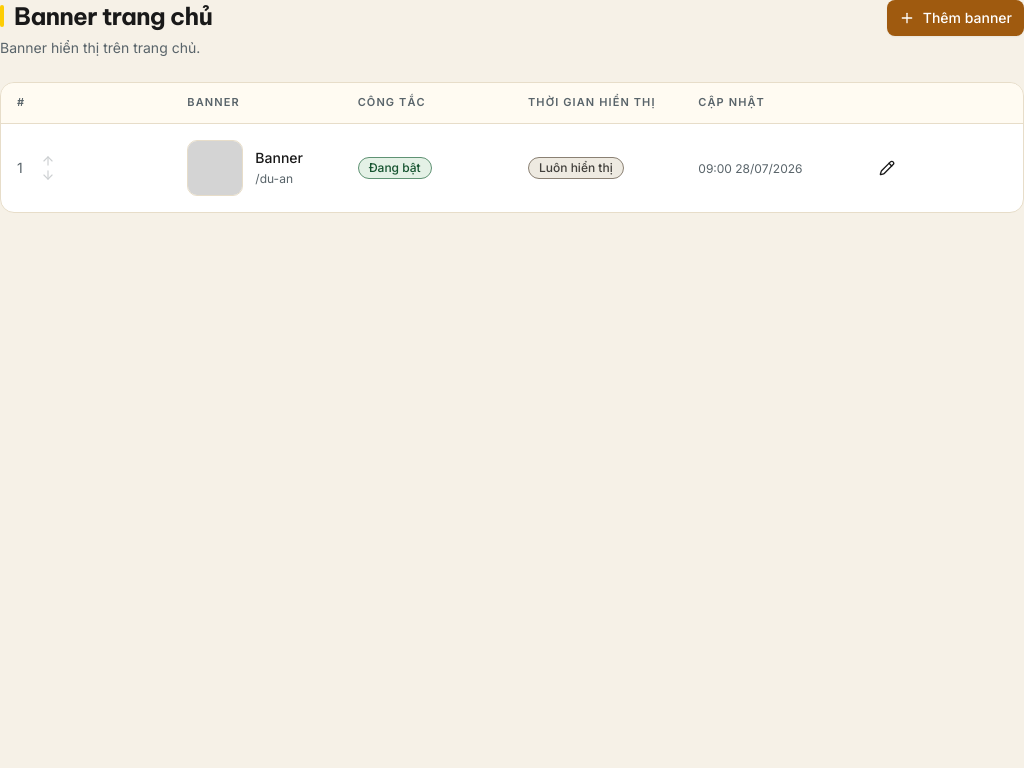
Form banner — phần “Thời gian hiển thị” › kiểm tại chỗ trước khi gọi API › chọn ngày mà quên giờ: báo lỗi, không tự đoán 00:00
Click the button named "Sửa banner" at (887, 168), box x1=869 y1=152 x2=905 y2=184
(page scrolled)
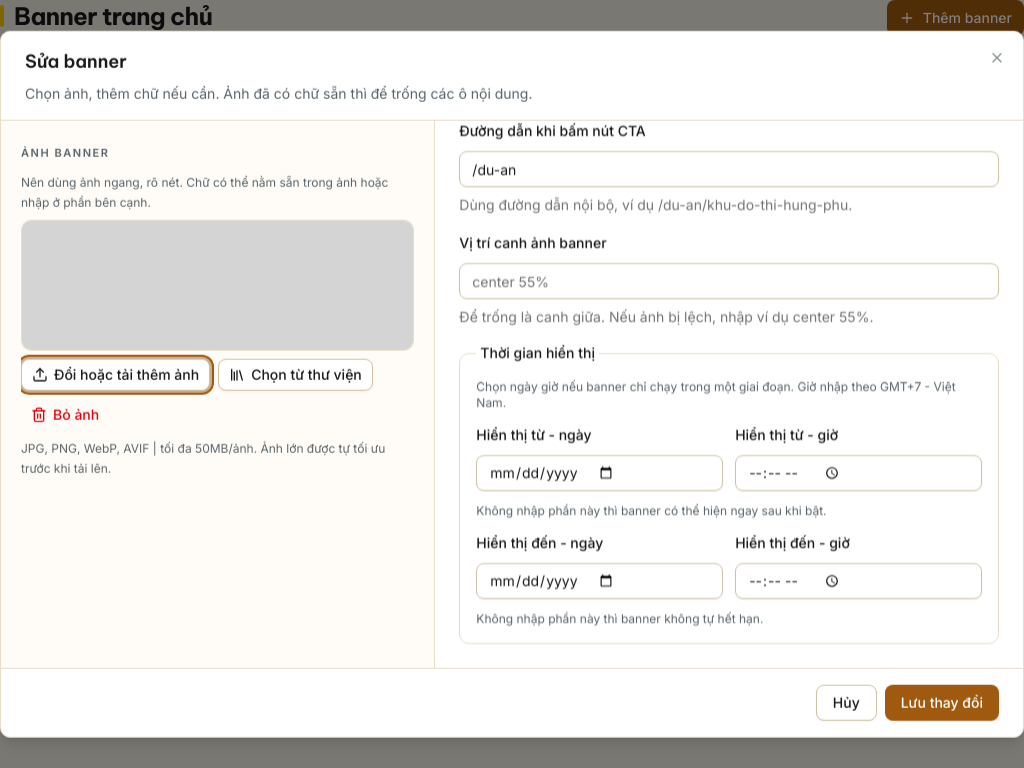
Type "2026-09-01" into the date field labelled "Hiển thị từ - ngày" at (600, 473), box x1=476 y1=455 x2=723 y2=491
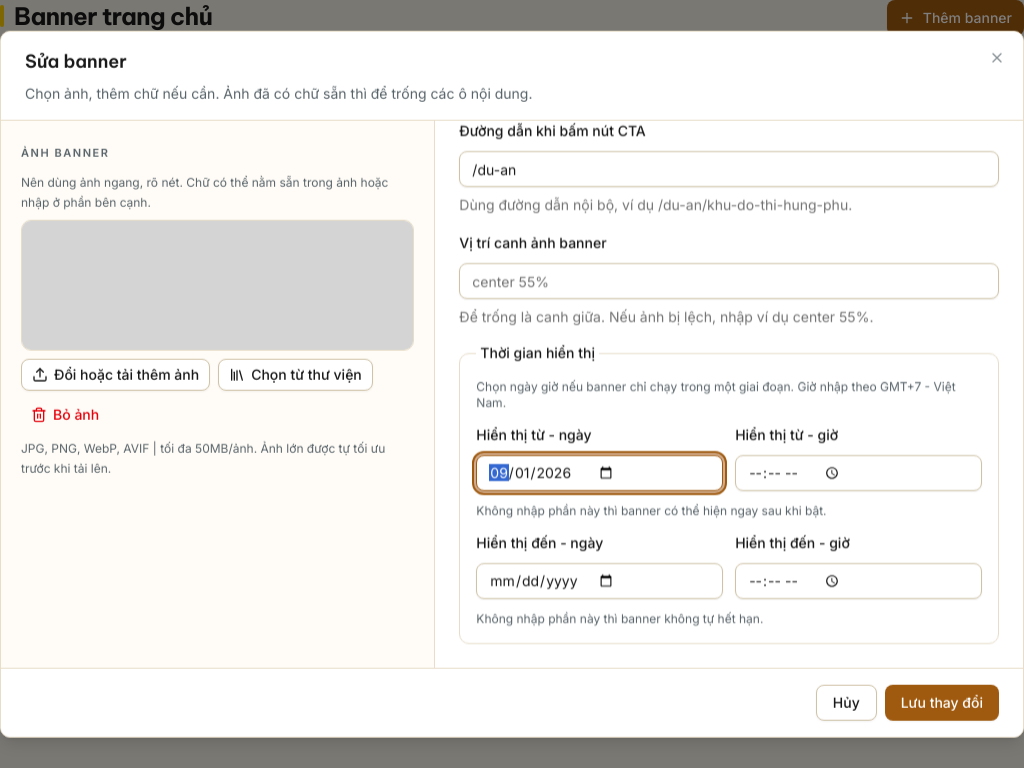
Click the button "Lưu thay đổi" at (942, 702), box x1=885 y1=684 x2=999 y2=720
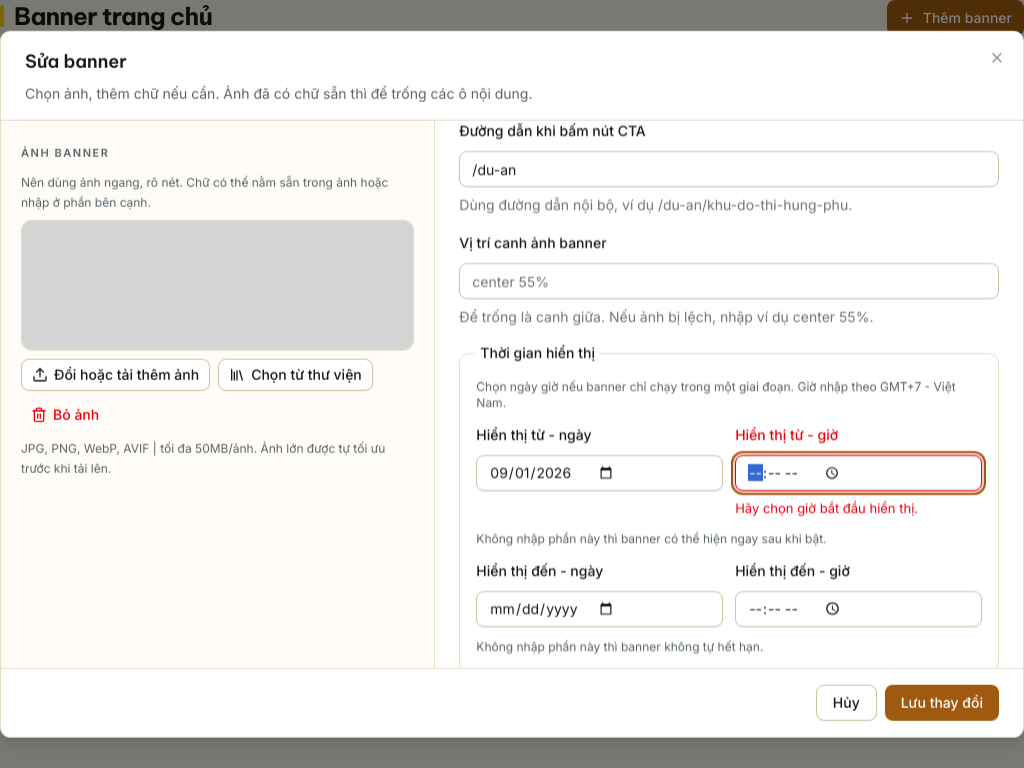
Expected: the text "Hãy chọn giờ bắt đầu hiển thị." is shown, x1=735 y1=500 x2=918 y2=516
